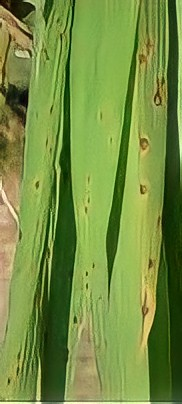Bercak Coklat: (138, 134, 153, 164), (142, 253, 160, 271), (34, 176, 44, 196)
